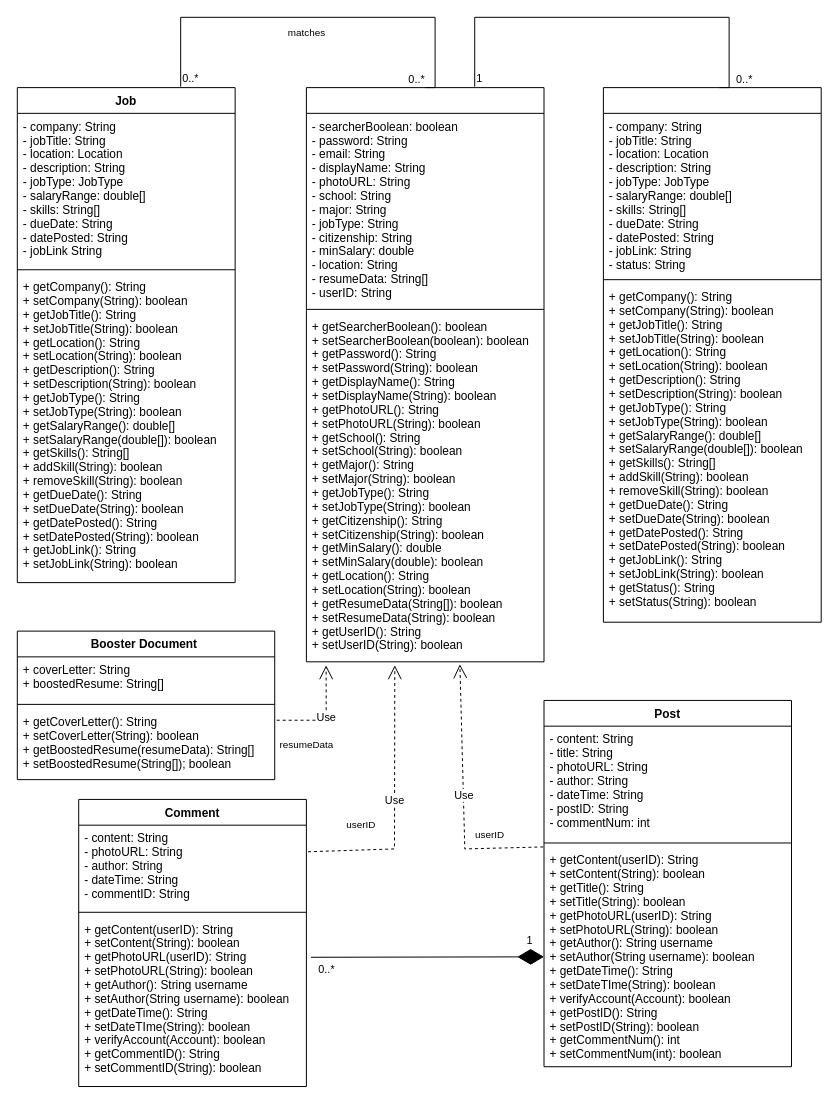
This 839x1107 diagram has some shape labels left out. The box of each missing label's shape, as (x1, y1, x2, y2) in pixels:
Account: (305, 87, 544, 662)
Job Entry: (602, 87, 821, 622)
